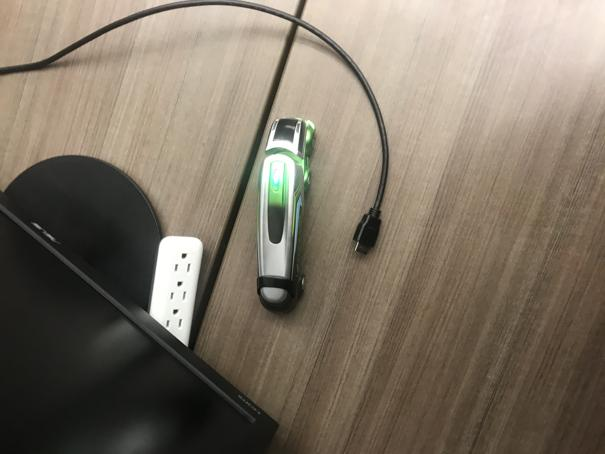Freewheel: (257, 116, 318, 314)
